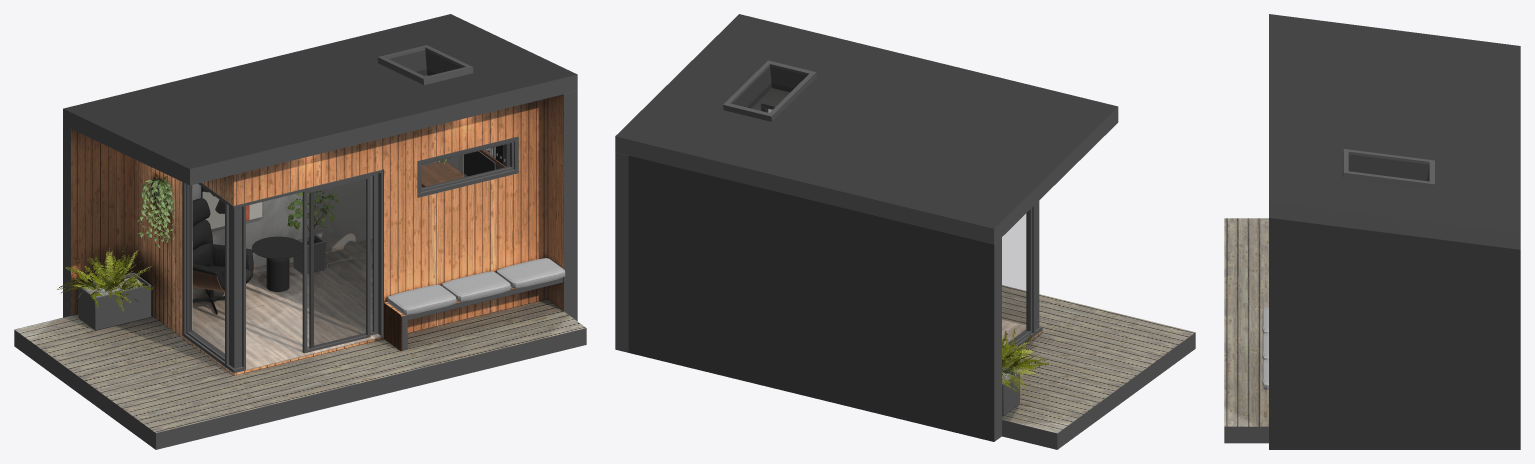
The model's file is presidio_120_mirror.glb.
3 views of the same model, side by side, from view 1: azimuth 30°, elevation 25°; view 2: azimuth 150°, elevation 25°; view 3: azimuth 270°, elevation 25° (orthographic). The views are drawn at different scales.
Visible parts, largest first — view 1: Facade, SkylightON_metal, Desk_StandartDesk_wood, FacadeFrame, Glass, Floor, Desk_StandartDesk_metal, FacadeFrame (1), Int_walls, Bench_pillow, Ext_Plant01_pot001, Ext_Plant01_004 (+13 smaller); view 2: Roof, SkylightON_metal, Desk_StandartDesk_wood, FacadeFrame, Desk_StandartDesk_metal, Glass, SkylightON_frame, SkylightON_glass, FacadeFrame (1), Ext_Plant01_004, Ext_Plant01_pot001; view 3: Roof, SkylightON_metal, Desk_StandartDesk_wood, FacadeFrame, SkylightON_frame, SkylightON_glass, Desk_StandartDesk_metal, Bench_pillow.
Part boxes in pixels (x1=…): Facade: x1=71, y1=94, x2=563, y2=375; SkylightON_metal: x1=63, y1=14, x2=577, y2=168; Desk_StandartDesk_wood: x1=14, y1=299, x2=585, y2=432; FacadeFrame: x1=63, y1=74, x2=577, y2=368; Glass: x1=189, y1=144, x2=510, y2=357; Floor: x1=192, y1=238, x2=380, y2=369; Desk_StandartDesk_metal: x1=14, y1=328, x2=586, y2=449; FacadeFrame (1): x1=182, y1=169, x2=383, y2=373; Int_walls: x1=182, y1=75, x2=514, y2=373; Bench_pillow: x1=387, y1=258, x2=565, y2=314; Ext_Plant01_pot001: x1=78, y1=272, x2=151, y2=330; Ext_Plant01_004: x1=57, y1=245, x2=153, y2=313; Roof: x1=628, y1=156, x2=994, y2=441; SkylightON_metal: x1=615, y1=14, x2=1117, y2=228; Desk_StandartDesk_wood: x1=1002, y1=285, x2=1195, y2=433; FacadeFrame: x1=615, y1=104, x2=1118, y2=441; Desk_StandartDesk_metal: x1=1002, y1=332, x2=1195, y2=449; Glass: x1=1002, y1=211, x2=1028, y2=344; SkylightON_frame: x1=723, y1=60, x2=816, y2=121; SkylightON_glass: x1=733, y1=67, x2=806, y2=112; FacadeFrame (1): x1=1004, y1=204, x2=1042, y2=352; Ext_Plant01_004: x1=1002, y1=328, x2=1048, y2=392; Ext_Plant01_pot001: x1=1002, y1=368, x2=1019, y2=415; Roof: x1=1269, y1=218, x2=1520, y2=449; SkylightON_metal: x1=1269, y1=14, x2=1520, y2=233; Desk_StandartDesk_wood: x1=1224, y1=218, x2=1268, y2=426; FacadeFrame: x1=1269, y1=201, x2=1520, y2=249; SkylightON_frame: x1=1342, y1=149, x2=1434, y2=189; SkylightON_glass: x1=1349, y1=155, x2=1428, y2=180; Desk_StandartDesk_metal: x1=1224, y1=426, x2=1268, y2=443; Bench_pillow: x1=1262, y1=306, x2=1268, y2=389.
Bounding box in the file's own units: 5.78 × 3.11 × 3.37.
Materials: 41 (14 with a texture image).
